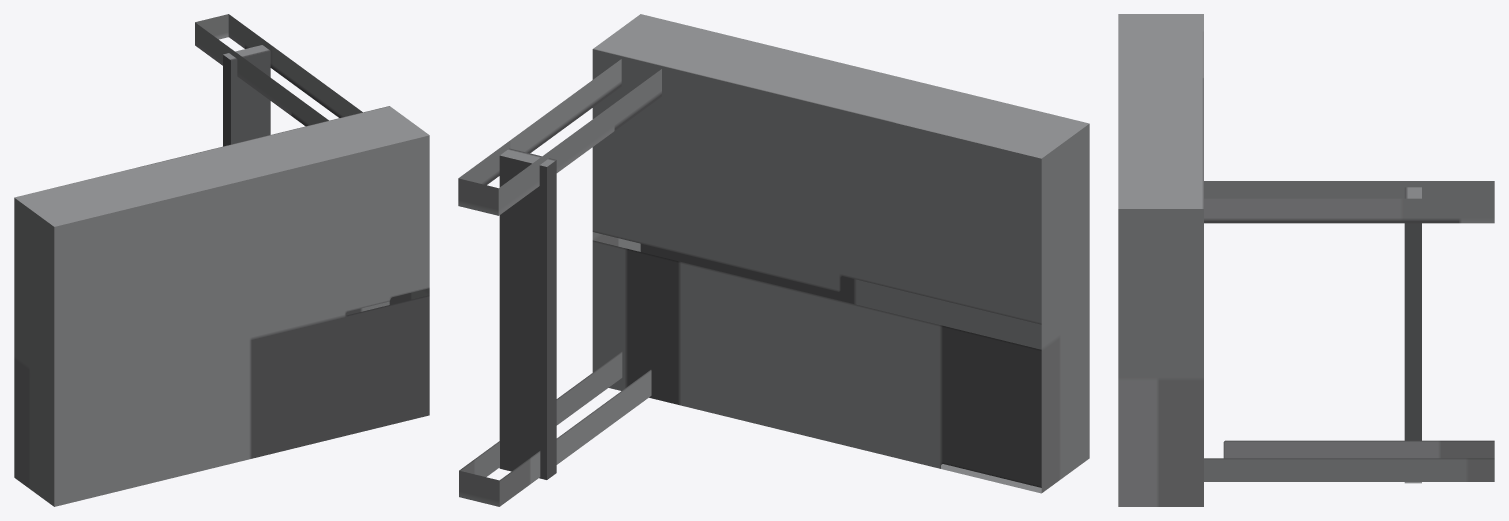
3 renders of one model, left to right at view 1: azimuth 30°, elevation 25°; view 2: azimuth 150°, elevation 25°; view 3: azimuth 270°, elevation 25°, orthographic. The views are drawn at different scales.
Size of the model in its own units: 1.03 by 0.7374 by 0.8438.
